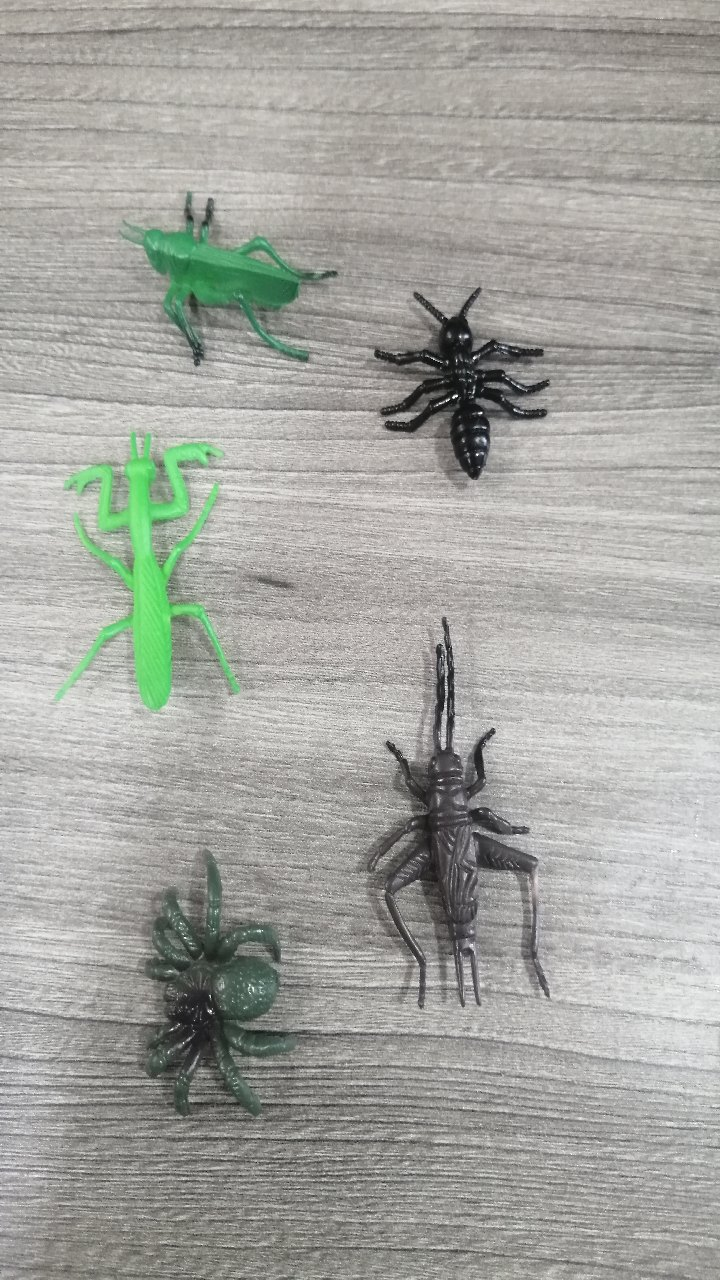intruso: (335, 603, 604, 1025), (26, 394, 283, 737), (81, 820, 351, 1142), (355, 229, 560, 542), (111, 142, 340, 405)
